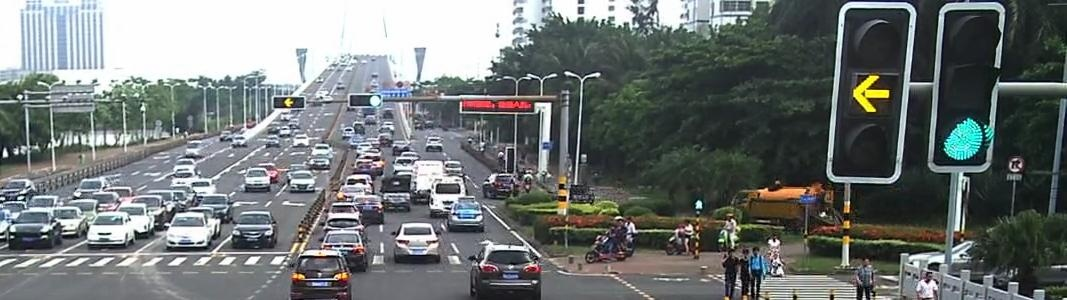green: (938, 114, 987, 163), (370, 94, 379, 106)
greenpeople: (691, 197, 705, 210)
yellowleft: (845, 71, 898, 116), (282, 96, 294, 109)
